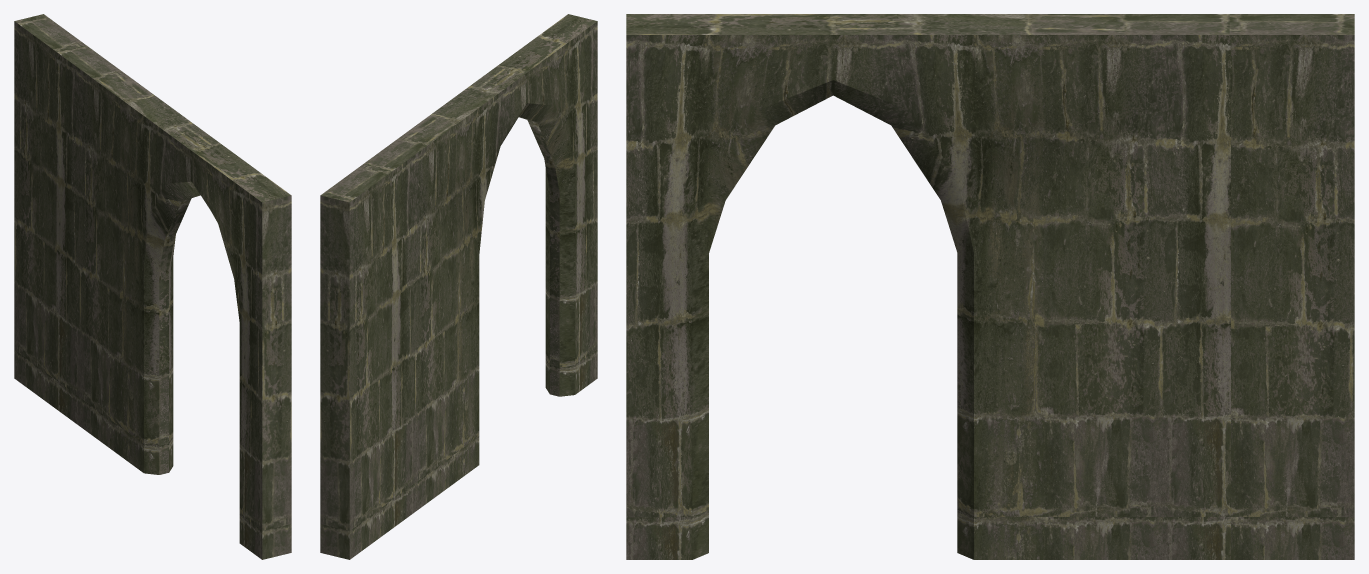
The model's file is Wall_Arch_L.fbx.
3 views of the same model, side by side, from view 1: azimuth 30°, elevation 25°; view 2: azimuth 150°, elevation 25°; view 3: azimuth 270°, elevation 25° (orthographic). The views are drawn at different scales.
Parts seen in each view (by area): view 1: DoubleDoorway.003; view 2: DoubleDoorway.003; view 3: DoubleDoorway.003.
Part boxes in pixels (<box>): DoubleDoorway.003: <box>14,14,291,559</box>; DoubleDoorway.003: <box>320,14,597,559</box>; DoubleDoorway.003: <box>626,14,1354,559</box>.
Bounding box in the file's own units: 51 × 595 × 748.
